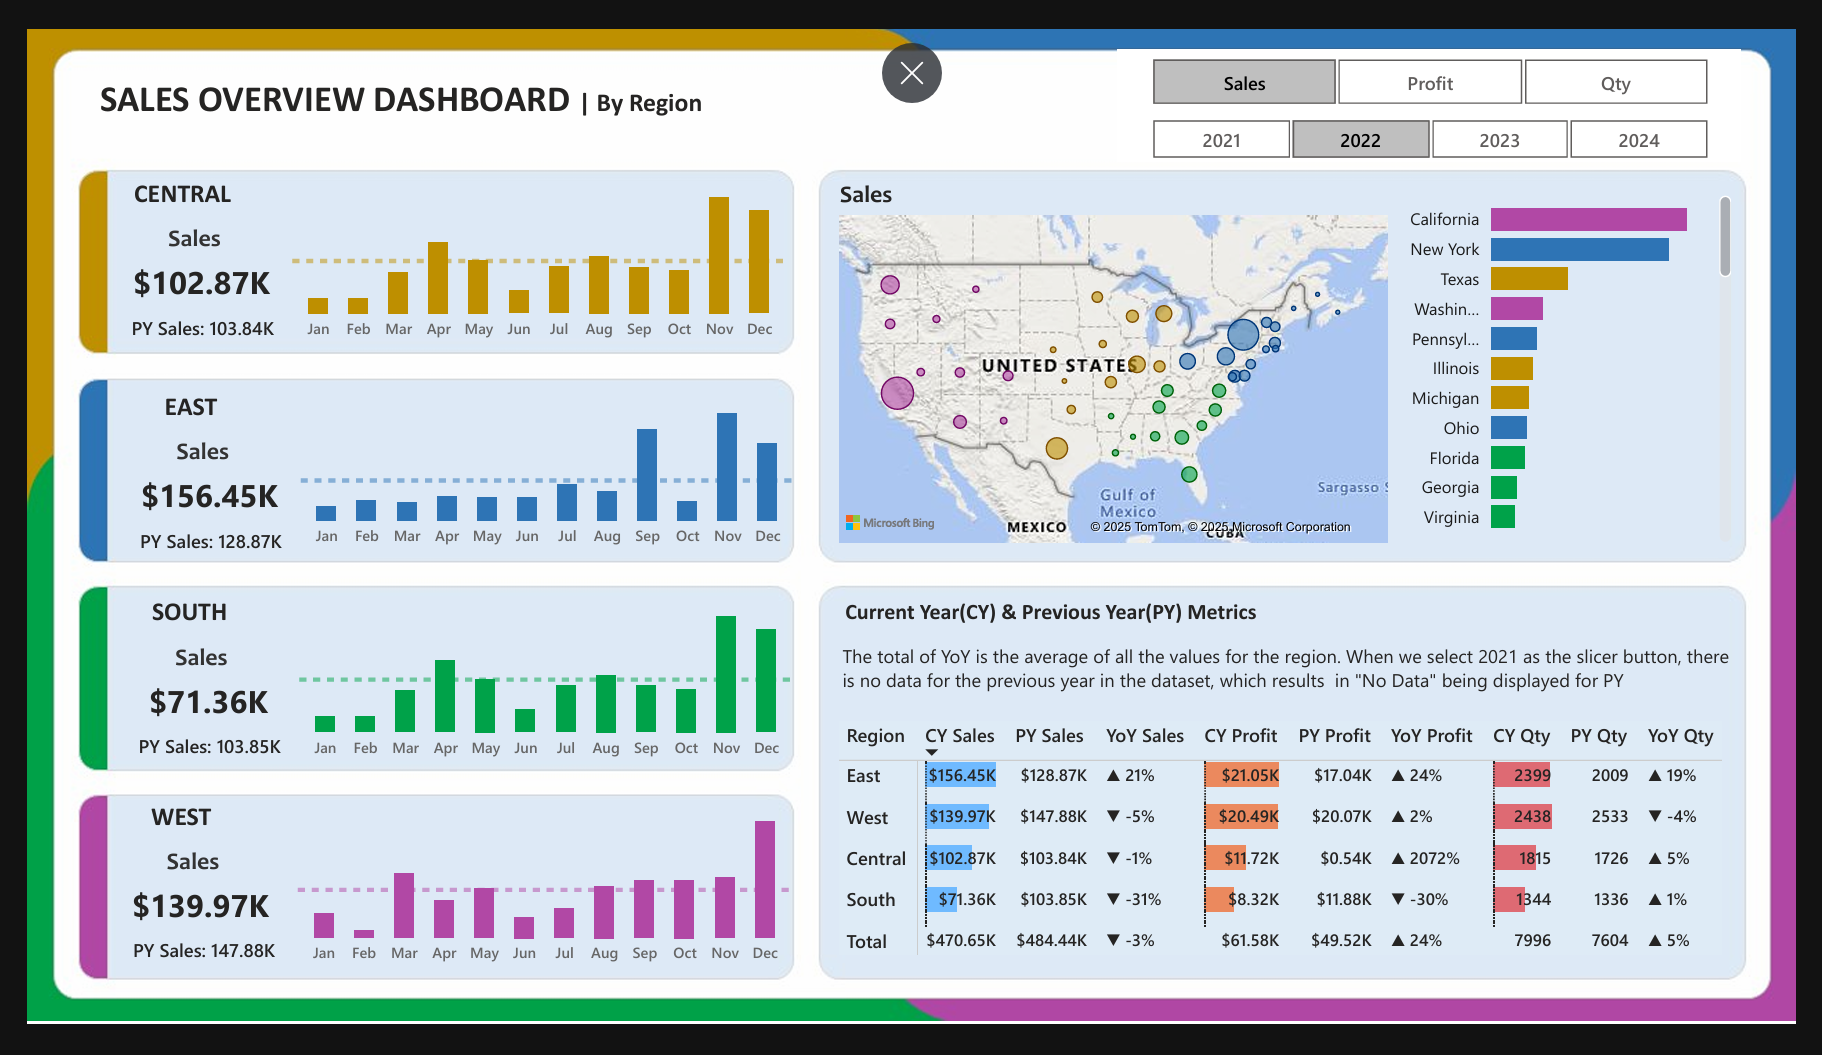

Layout of this report page (visuals, bound fields, positions):
{"tool":"powerbi","page":{"name":"Page 1","canvas":[1280,720],"ordinal":0},"visuals":[{"type":"slicer","fields":{"Values":["Select Metric.Select Metric"]},"box":[788.8,15,451.2,46.2],"z":0},{"type":"card","fields":{"Values":["Sales Data.Total Sales"]},"box":[65.7,168.8,122.1,31.6],"z":0,"group":"g1"},{"type":"card","fields":{"Values":["Sales Data.Total Sales"]},"box":[71.3,323.1,122.1,31.6],"z":0,"group":"g2"},{"type":"card","fields":{"Values":["Sales Data.Total Sales"]},"box":[70.2,471.3,122.1,31.6],"z":0,"group":"g3"},{"type":"card","fields":{"Values":["Sales Data.Total Sales"]},"box":[64.6,619.3,122.1,31.6],"z":0,"group":"g4"},{"type":"slicer","fields":{"Values":["Caldender.Year"]},"box":[789,59,451.5,37],"z":1000},{"type":"textbox","box":[65.3,102.3,95,32.5],"z":1000,"group":"g1"},{"type":"textbox","box":[70.9,256.6,95,32.5],"z":1000,"group":"g2"},{"type":"textbox","box":[69.8,404.8,95,32.5],"z":1000,"group":"g3"},{"type":"textbox","box":[64.1,552.8,95,32.5],"z":1000,"group":"g4"},{"type":"textbox","box":[0,29.4,541.1,57.7],"z":2000},{"type":"card","fields":{"Values":["Sales Data.Dynamic Title"]},"box":[76.7,135.9,89.2,32.9],"z":2000,"group":"g1"},{"type":"card","fields":{"Values":["Sales Data.Dynamic Title"]},"box":[82.3,290.2,89.2,32.9],"z":2000,"group":"g2"},{"type":"card","fields":{"Values":["Sales Data.Dynamic Title"]},"box":[81.2,438.4,89.2,32.9],"z":2000,"group":"g3"},{"type":"card","fields":{"Values":["Sales Data.Dynamic Title"]},"box":[75.5,586.4,89.2,32.9],"z":2000,"group":"g4"},{"type":"group","id":"g1","title":"Group 1","box":[53.4,102.3,500.9,132.4],"z":3000},{"type":"card","fields":{"Values":["Sales Data.PY KPI Sales"]},"box":[53.4,203.1,148.2,31.6],"z":3000,"group":"g1"},{"type":"card","fields":{"Values":["Sales Data.PY KPI Sales"]},"box":[59,357.4,148.2,31.6],"z":3000,"group":"g2"},{"type":"card","fields":{"Values":["Sales Data.PY KPI Sales"]},"box":[57.9,505.6,148.2,31.6],"z":3000,"group":"g3"},{"type":"card","fields":{"Values":["Sales Data.PY KPI Sales"]},"box":[54.1,653,148.2,31.6],"z":3000,"group":"g4"},{"type":"clusteredColumnChart","fields":{"Y":["Sales Data.Total Sales"],"Category":["Caldender.Month"]},"box":[187.9,103,366.4,131.7],"z":4000,"group":"g1"},{"type":"group","id":"g2","title":"Group 1","box":[59,252.5,500.9,136.5],"z":4000},{"type":"clusteredColumnChart","fields":{"Y":["Sales Data.Total Sales"],"Category":["Caldender.Month"]},"box":[193.5,252.5,366.4,131.7],"z":4000,"group":"g2"},{"type":"clusteredColumnChart","fields":{"Y":["Sales Data.Total Sales"],"Category":["Caldender.Month"]},"box":[192.4,405.5,366.4,131.7],"z":4000,"group":"g3"},{"type":"clusteredColumnChart","fields":{"Y":["Sales Data.Total Sales"],"Category":["Caldender.Month"]},"box":[191.3,554.2,366.4,131.7],"z":4000,"group":"g4"},{"type":"group","id":"g3","title":"Group 1","box":[57.9,404.8,500.9,131.7],"z":5000},{"type":"group","id":"g4","title":"Group 1","box":[54.1,552.8,503.6,133.1],"z":6000},{"type":"map","fields":{"Size":["Sales Data.Total Sales"],"Category":["Sales Data.State/Province"],"Series":["Sales Data.Region"]},"box":[583.2,108.4,406.7,269],"z":7000},{"type":"barChart","fields":{"Y":["Sales Data.Total Sales"],"Category":["Sales Data.State/Province"],"Series":["Sales Data.Region"]},"box":[982.5,108.4,255.2,267.3],"z":8000},{"type":"pivotTable","fields":{"Rows":["Sales Data.Region"],"Values":["Sales Data.CY Sales","Sales Data.PY Sales","Sales Data.YoY Sales","Sales Data.CY Profit","Sales Data.PY Profit","Sales Data.YoY Profit","Sales Data.CY Qty","Sales Data.PY Qty","Sales Data.YoY Qty"]},"box":[582.8,495.7,666.3,190.2],"z":9000},{"type":"textbox","box":[586.5,407.4,339.9,31.9],"z":10000},{"type":"textbox","box":[585.3,440.5,652.8,46.6],"z":11000}]}

Visuals, with their boxes in screenshot pixels (x1, y1, x2, y2), scaled from the page's 1280x720 canvas onto the 1822x1055 screenshot:
slicer - Select Metric.Select Metric: select_region(1123, 22, 1765, 90)
card - Sales Data.Total Sales: select_region(94, 247, 267, 294)
card - Sales Data.Total Sales: select_region(101, 473, 275, 520)
card - Sales Data.Total Sales: select_region(100, 691, 274, 737)
card - Sales Data.Total Sales: select_region(92, 907, 266, 954)
slicer - Caldender.Year: select_region(1123, 86, 1766, 141)
textbox: select_region(93, 150, 228, 198)
textbox: select_region(101, 376, 236, 424)
textbox: select_region(99, 593, 235, 641)
textbox: select_region(91, 810, 226, 858)
textbox: select_region(0, 43, 770, 128)
card - Sales Data.Dynamic Title: select_region(109, 199, 236, 247)
card - Sales Data.Dynamic Title: select_region(117, 425, 244, 473)
card - Sales Data.Dynamic Title: select_region(116, 642, 243, 691)
card - Sales Data.Dynamic Title: select_region(107, 859, 234, 907)
"Group 1" group: select_region(76, 150, 789, 344)
card - Sales Data.PY KPI Sales: select_region(76, 298, 287, 344)
card - Sales Data.PY KPI Sales: select_region(84, 524, 295, 570)
card - Sales Data.PY KPI Sales: select_region(82, 741, 293, 787)
card - Sales Data.PY KPI Sales: select_region(77, 957, 288, 1003)
clusteredColumnChart - Sales Data.Total Sales x Caldender.Month: select_region(267, 151, 789, 344)
"Group 1" group: select_region(84, 370, 797, 570)
clusteredColumnChart - Sales Data.Total Sales x Caldender.Month: select_region(275, 370, 797, 563)
clusteredColumnChart - Sales Data.Total Sales x Caldender.Month: select_region(274, 594, 795, 787)
clusteredColumnChart - Sales Data.Total Sales x Caldender.Month: select_region(272, 812, 794, 1005)
"Group 1" group: select_region(82, 593, 795, 786)
"Group 1" group: select_region(77, 810, 794, 1005)
map - Sales Data.Total Sales x Sales Data.State/Province: select_region(830, 159, 1409, 553)
barChart - Sales Data.Total Sales x Sales Data.State/Province: select_region(1399, 159, 1762, 551)
pivotTable - Sales Data.Region x Sales Data.CY Sales: select_region(830, 726, 1778, 1005)
textbox: select_region(835, 597, 1319, 644)
textbox: select_region(833, 645, 1762, 714)
